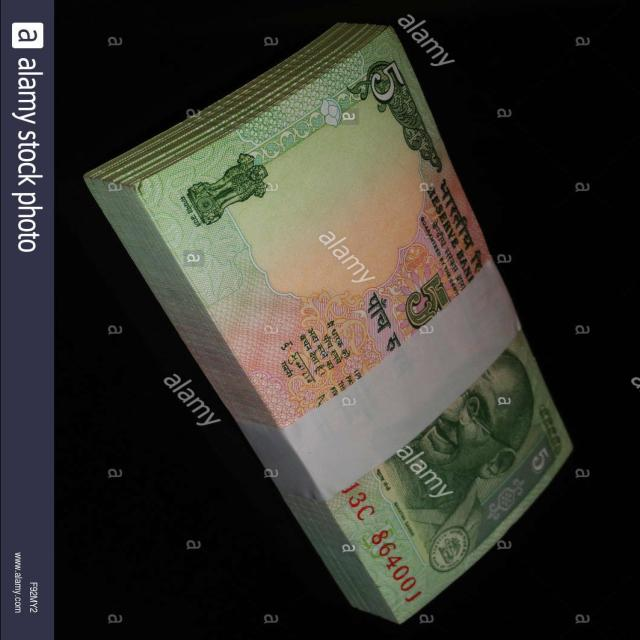5IndianRupees: (124, 98, 584, 593)
